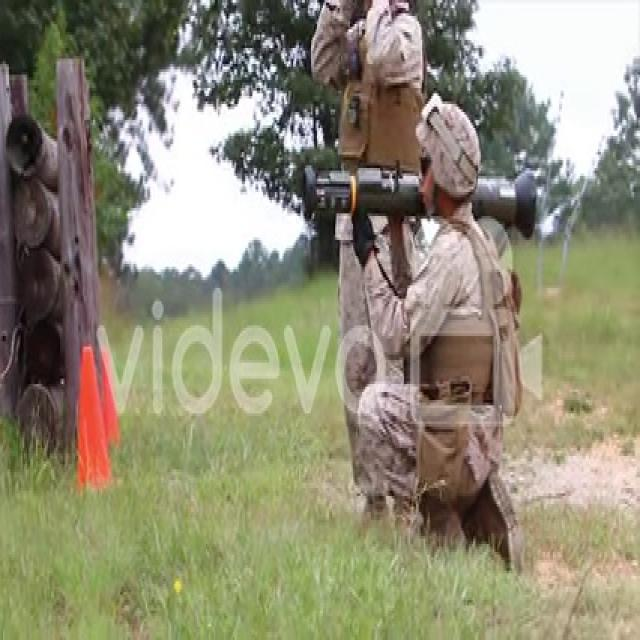bazooka: (295, 153, 540, 252)
